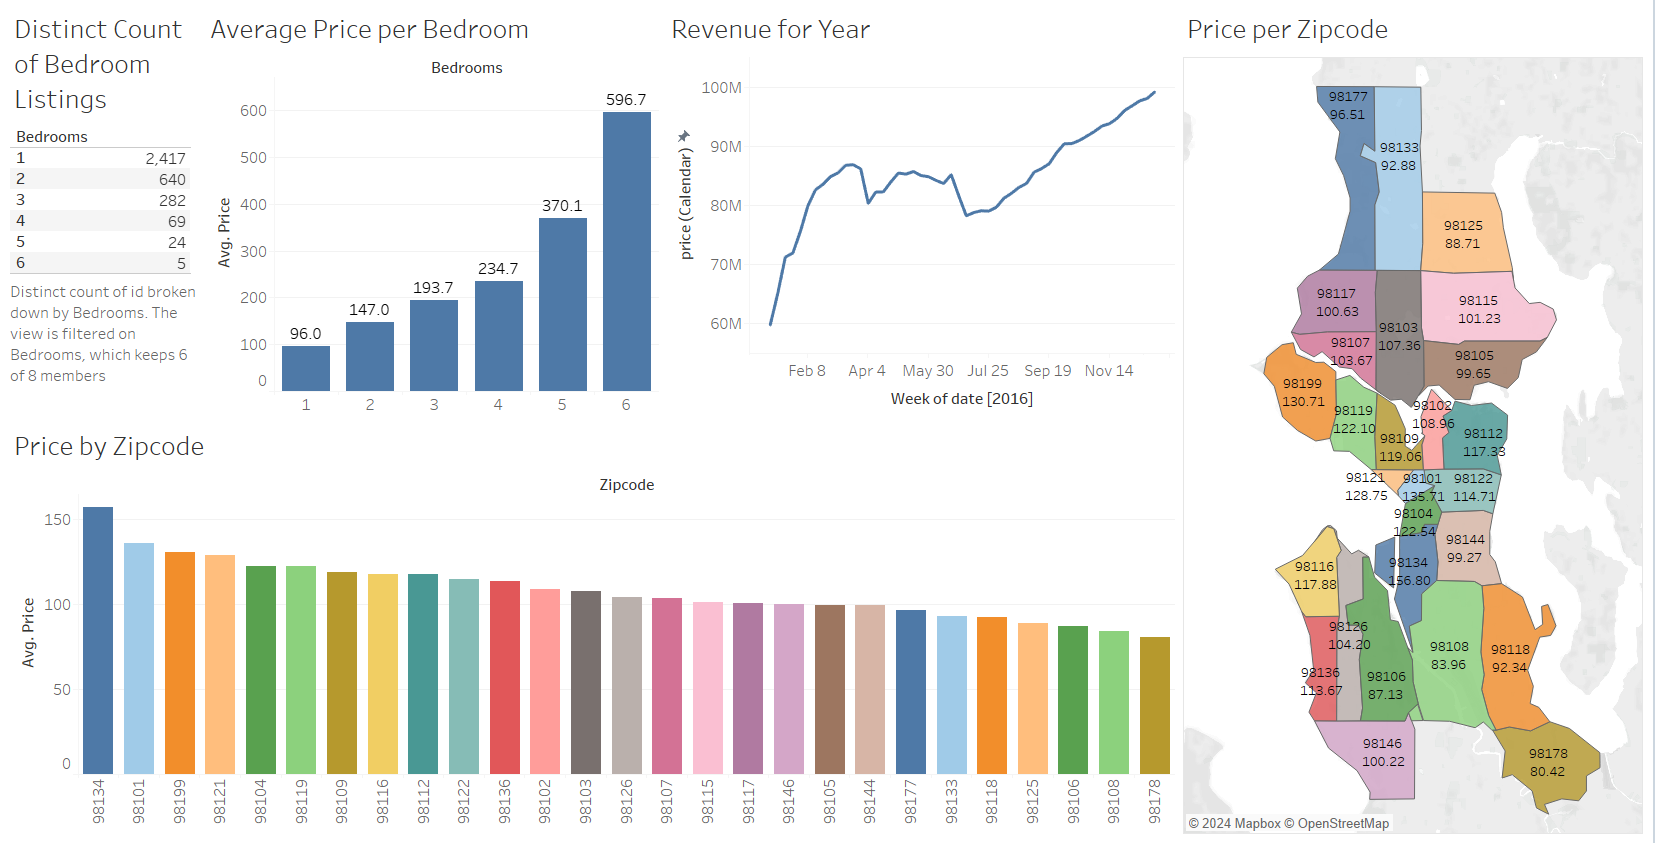

What the dashboard file says about the page in this screenshot:
{"tool":"tableau","page":{"name":"Dashboard 1","canvas":[1000,1000],"units":"permille","ordinal":0},"visuals":[{"type":"worksheet","title":"Sheet 1","mark":"Automatic","box":[4.8,9.4,395.9,156.3]},{"type":"worksheet","title":"Sheet 3","mark":"Automatic","box":[400.7,9.4,594.5,839]},{"type":"worksheet","title":"Sheet 2","mark":"Automatic","rows":["TotalDeathCount"],"cols":["location"],"box":[4.8,165.7,395.9,333.7]},{"type":"worksheet","title":"Sheet 4","mark":"Automatic","rows":["PercentagePopulationInfected"],"cols":["date"],"box":[4.8,499.4,395.9,491.2]},{"type":"legend","title":"Sheet 3","param":"[federated.0ovzmdi0dsr53b10wrzn71i37eri].[sum:PercentagePopelationInfected:qk]","box":[400.7,848.4,594.5,74]},{"type":"legend","title":"Sheet 4","param":"[federated.15xqhtc0qfcvlh17vz5lo0hxi40i].[none:location:nk]\n[federated.15xqhtc0q","box":[400.7,922.4,594.5,68.2]}]}

Visuals, with their boxes on the dashboard's canvas, which has no fixed pixel size, in thousandths of its width and height (x1, y1, x2, y2). These are canvas units, not pixel positions in the 1655x843 screenshot, which may show the page scaled, cropped or inside an application window:
"Sheet 1" worksheet: rect(5, 9, 401, 166)
"Sheet 3" worksheet: rect(401, 9, 995, 848)
"Sheet 2" worksheet: rect(5, 166, 401, 499)
"Sheet 4" worksheet: rect(5, 499, 401, 991)
"Sheet 3" legend: rect(401, 848, 995, 922)
"Sheet 4" legend: rect(401, 922, 995, 991)
